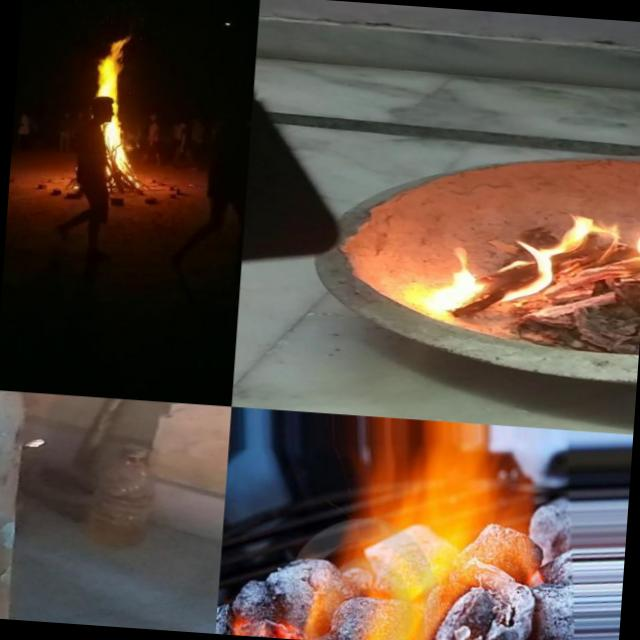fire: (299, 413, 541, 640), (80, 19, 154, 168), (512, 208, 608, 300), (409, 240, 492, 318), (620, 192, 640, 278)
